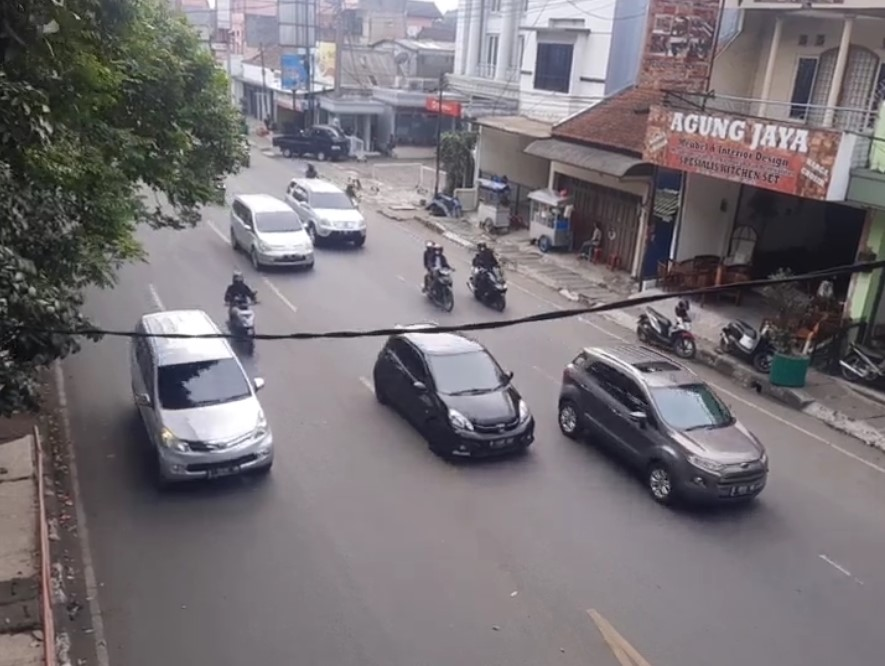mobil: (557, 331, 768, 521), (93, 308, 279, 498), (377, 313, 536, 459), (228, 195, 313, 266), (289, 176, 368, 248)
motor: (470, 241, 518, 318), (220, 271, 267, 349), (419, 240, 460, 313)
